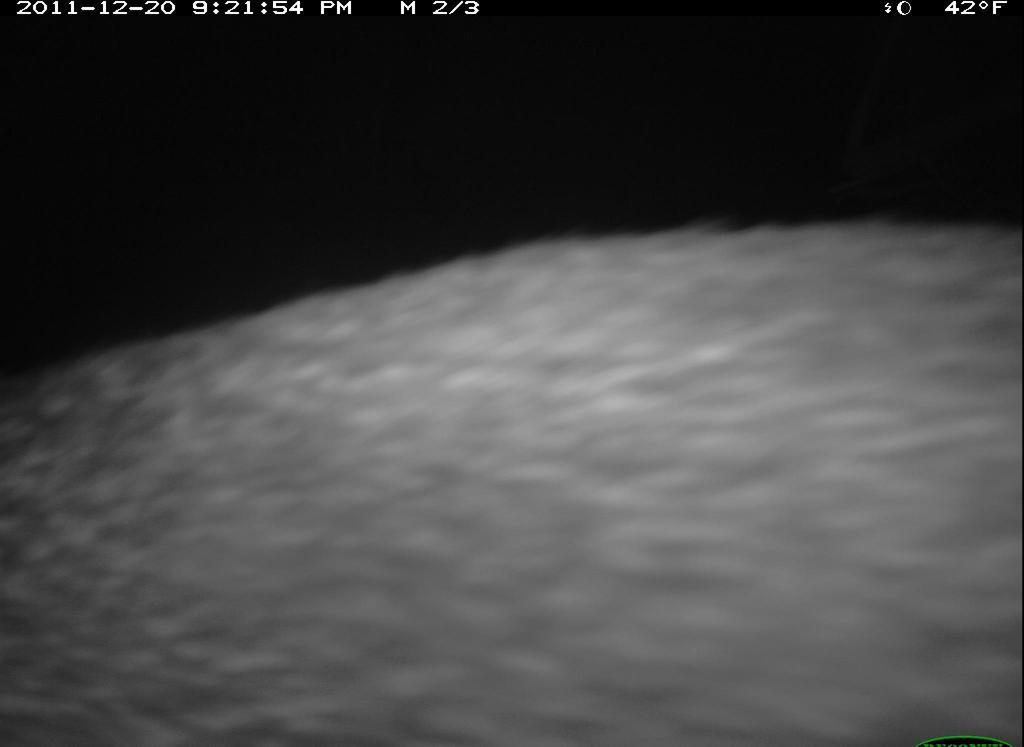raccoon: (4, 218, 1022, 747)
